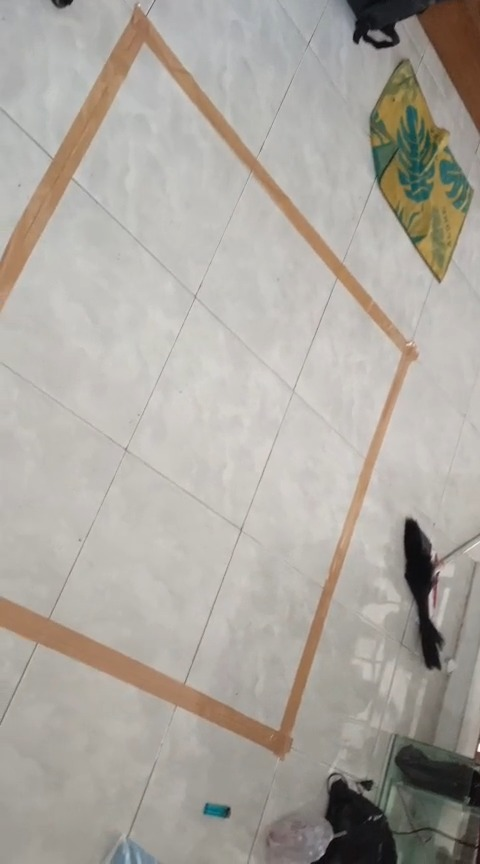floor marking: (0, 5, 417, 757)
